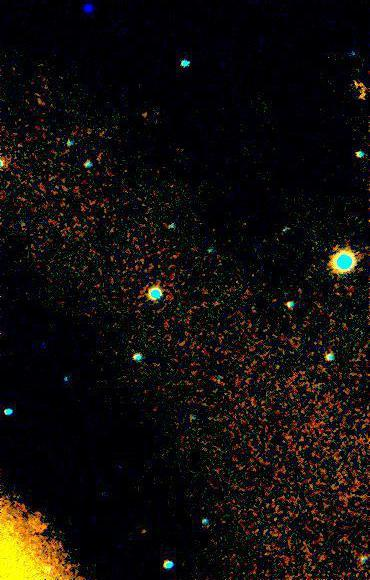star: (130, 516, 160, 546)
